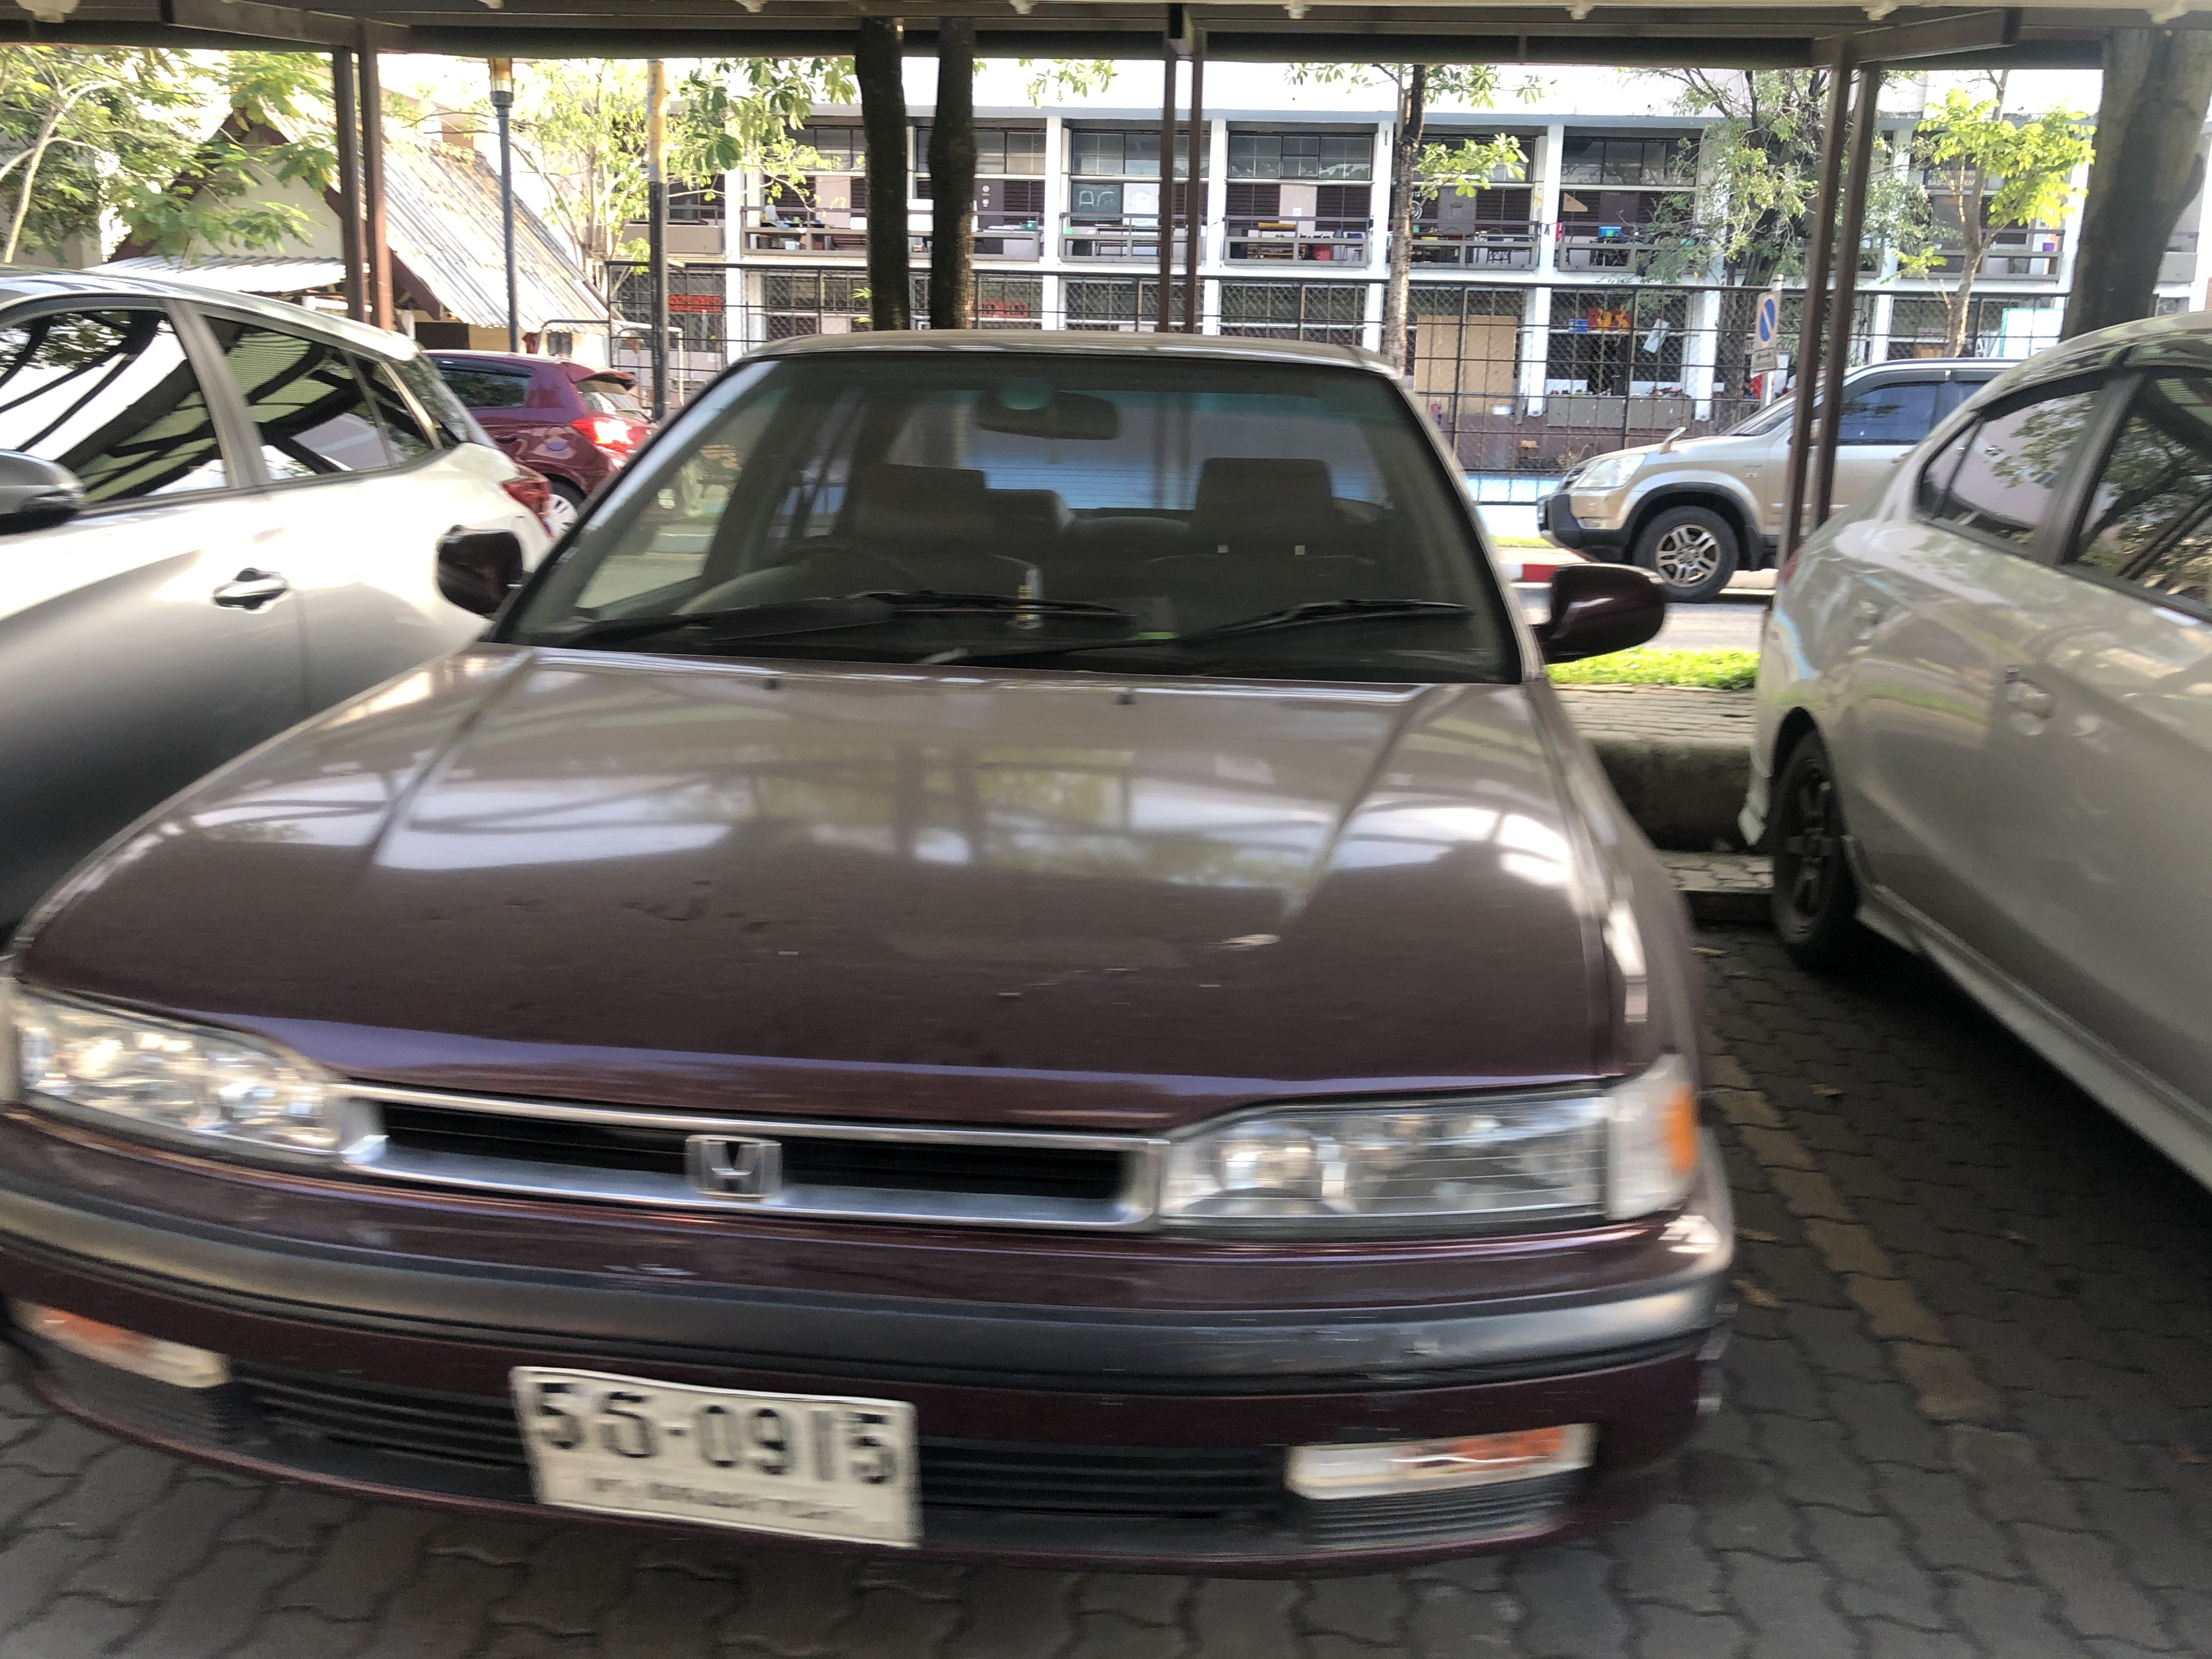in: (521, 1377, 914, 1546)
out: (503, 1359, 927, 1554)
